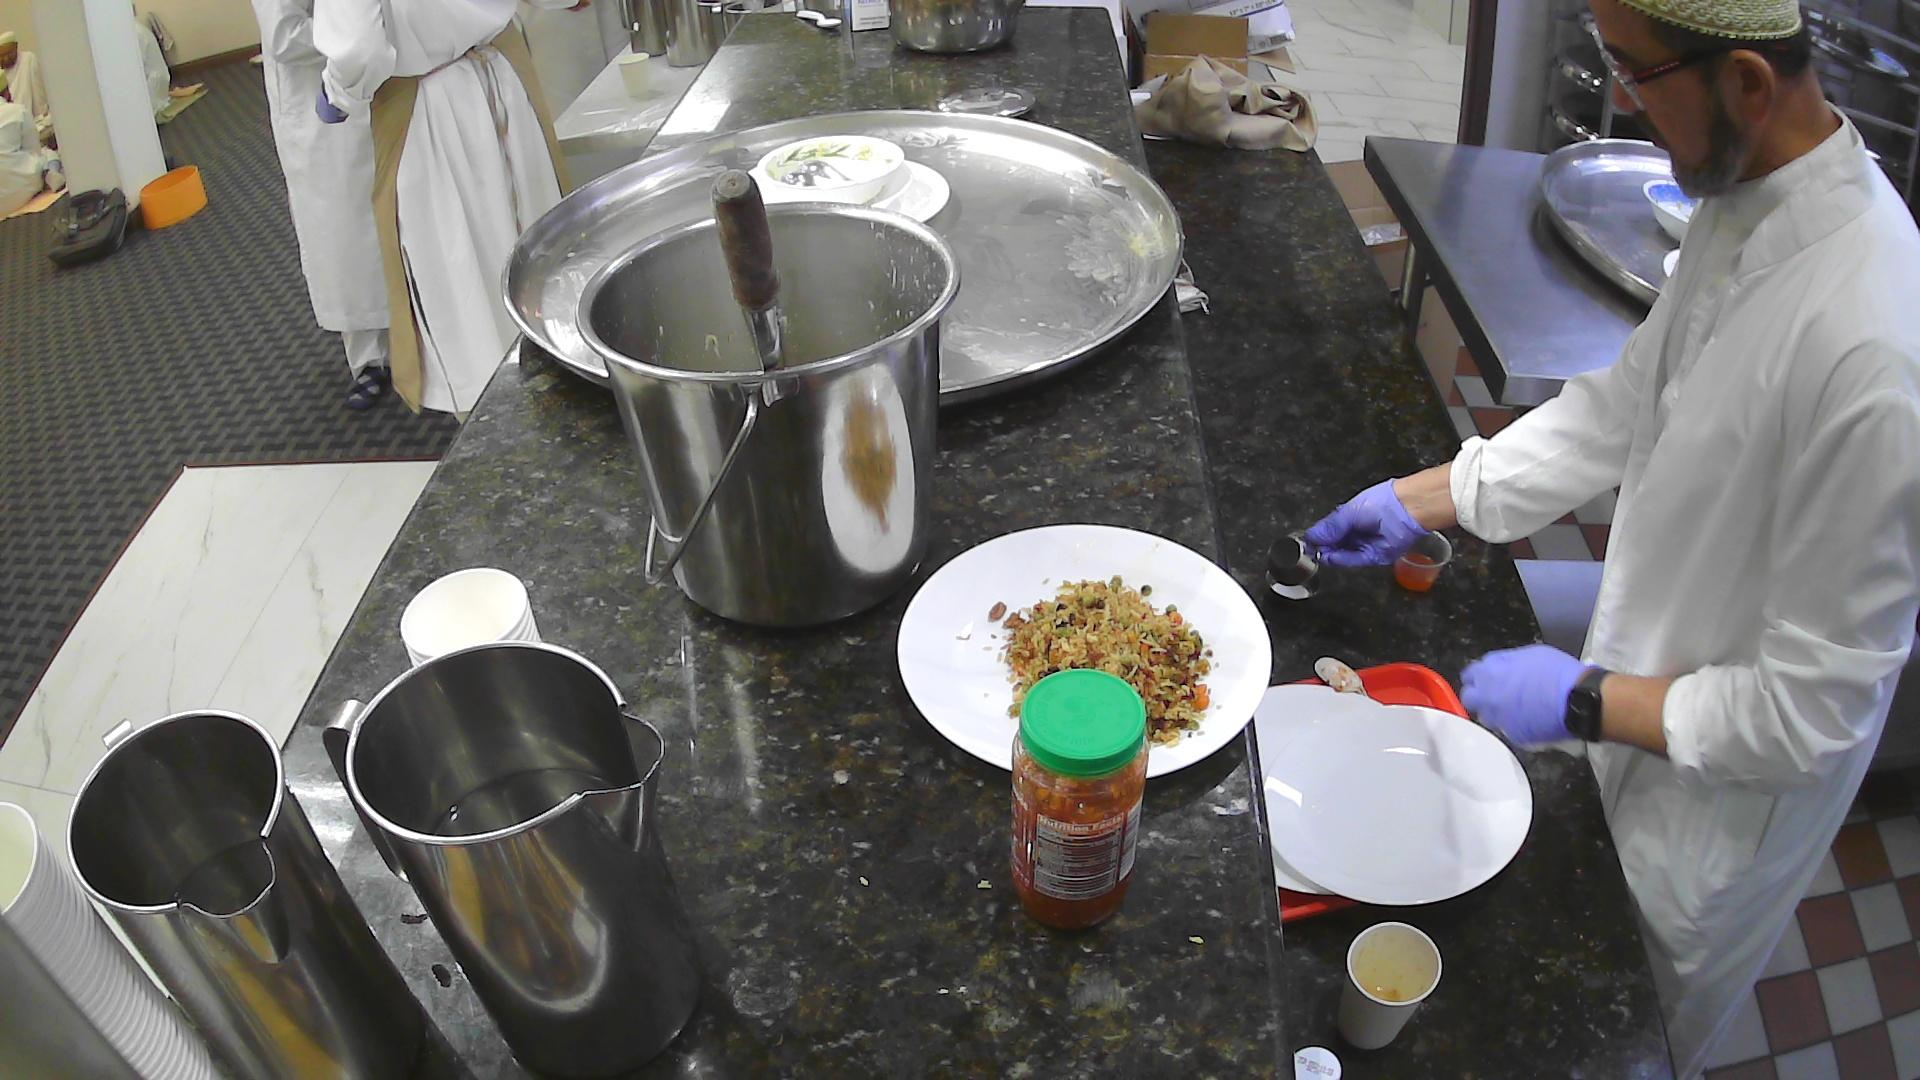thaal: (500, 104, 1188, 409), (1534, 132, 1727, 320)
